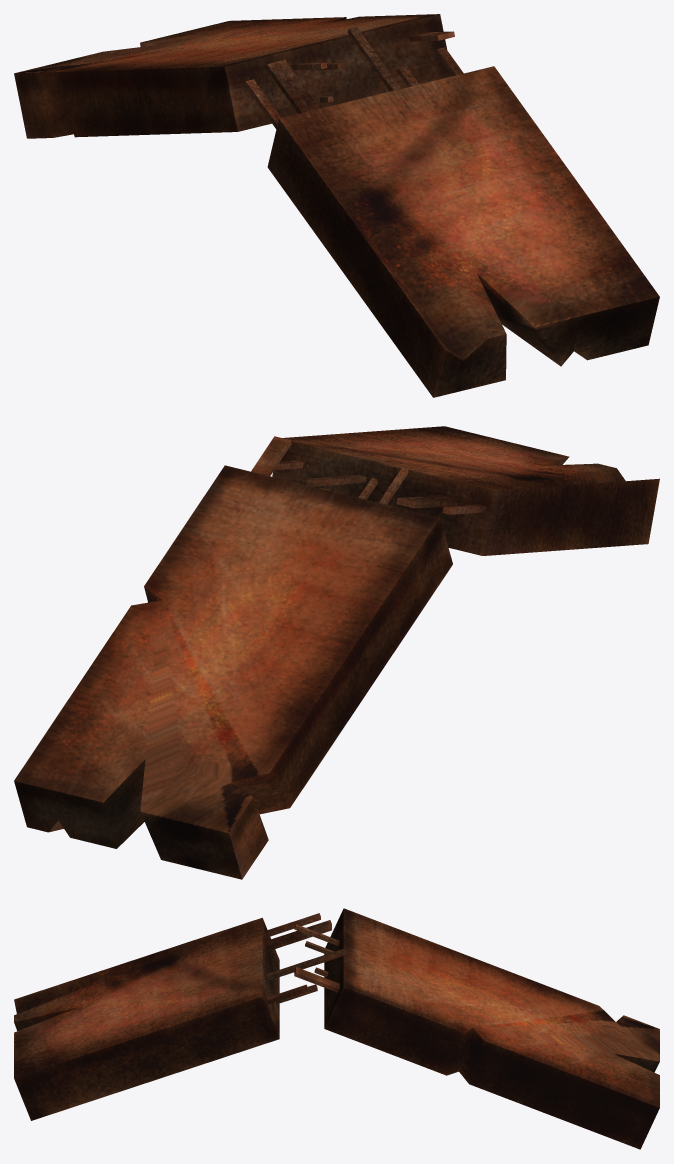
Rendered from Debris.fbx.
The picture shows the model from 3 angles, top to bottom: view 1: azimuth 30°, elevation 25°; view 2: azimuth 150°, elevation 25°; view 3: azimuth 270°, elevation 25°; orthographic projection. The views are drawn at different scales.
Visible parts, largest first — view 1: pCube12; view 2: pCube12; view 3: pCube12.
Part boxes in pixels (x1,y1,x2,y2): pCube12: (14, 14, 659, 397); pCube12: (14, 426, 659, 879); pCube12: (14, 908, 659, 1149).
Size of the model in its own units: 10.34 by 10.43 by 35.82.
1 material, 1 textured.
